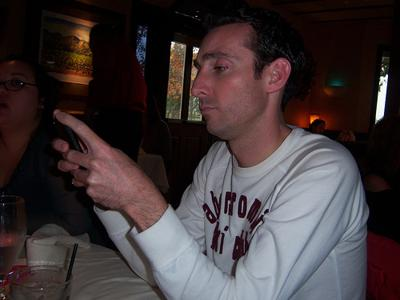person: (50, 10, 368, 299)
